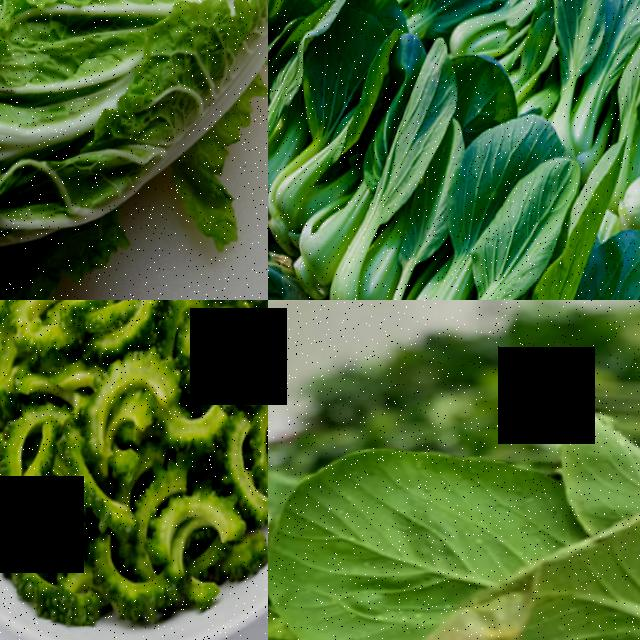bok choy: (268, 444, 640, 640), (345, 93, 430, 300), (457, 179, 558, 300), (274, 86, 338, 234)
cabbage: (0, 0, 268, 300)
